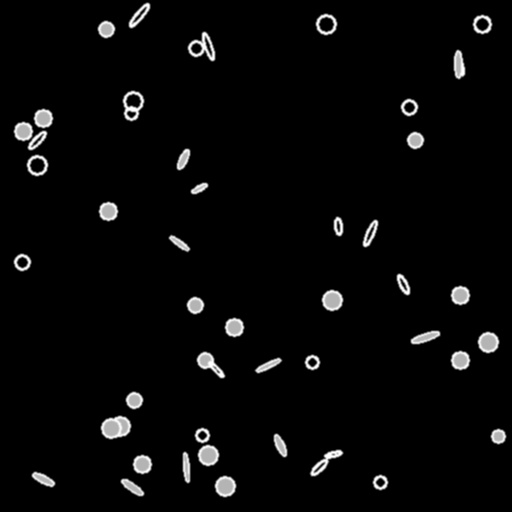pseudomonas: (127, 2, 151, 28), (200, 31, 216, 61), (120, 477, 144, 497), (411, 329, 439, 345), (362, 219, 378, 247), (255, 357, 281, 373), (27, 130, 47, 150), (31, 471, 55, 487), (175, 148, 191, 170), (310, 458, 328, 476), (207, 360, 225, 378), (169, 235, 189, 251), (273, 434, 287, 456), (396, 274, 410, 294), (453, 54, 465, 76), (182, 452, 190, 482), (454, 51, 462, 77), (191, 182, 207, 194), (324, 450, 342, 458), (334, 218, 342, 234)
synechocystis: (28, 156, 46, 174), (199, 446, 217, 464), (124, 92, 142, 110), (479, 333, 497, 351), (323, 291, 341, 309), (111, 417, 129, 435), (317, 15, 335, 33), (216, 477, 234, 495), (102, 419, 120, 437), (452, 287, 468, 303), (15, 123, 31, 139), (134, 456, 150, 472), (452, 352, 468, 368), (226, 319, 242, 335), (100, 203, 116, 219), (35, 110, 51, 126), (474, 16, 490, 32), (408, 133, 422, 147), (15, 255, 29, 269), (127, 393, 141, 407), (189, 41, 203, 55), (402, 100, 416, 114), (188, 298, 202, 312), (99, 22, 113, 36), (198, 353, 212, 367), (196, 429, 208, 441), (374, 476, 386, 488), (306, 356, 318, 368), (125, 107, 137, 119), (492, 430, 504, 442)
